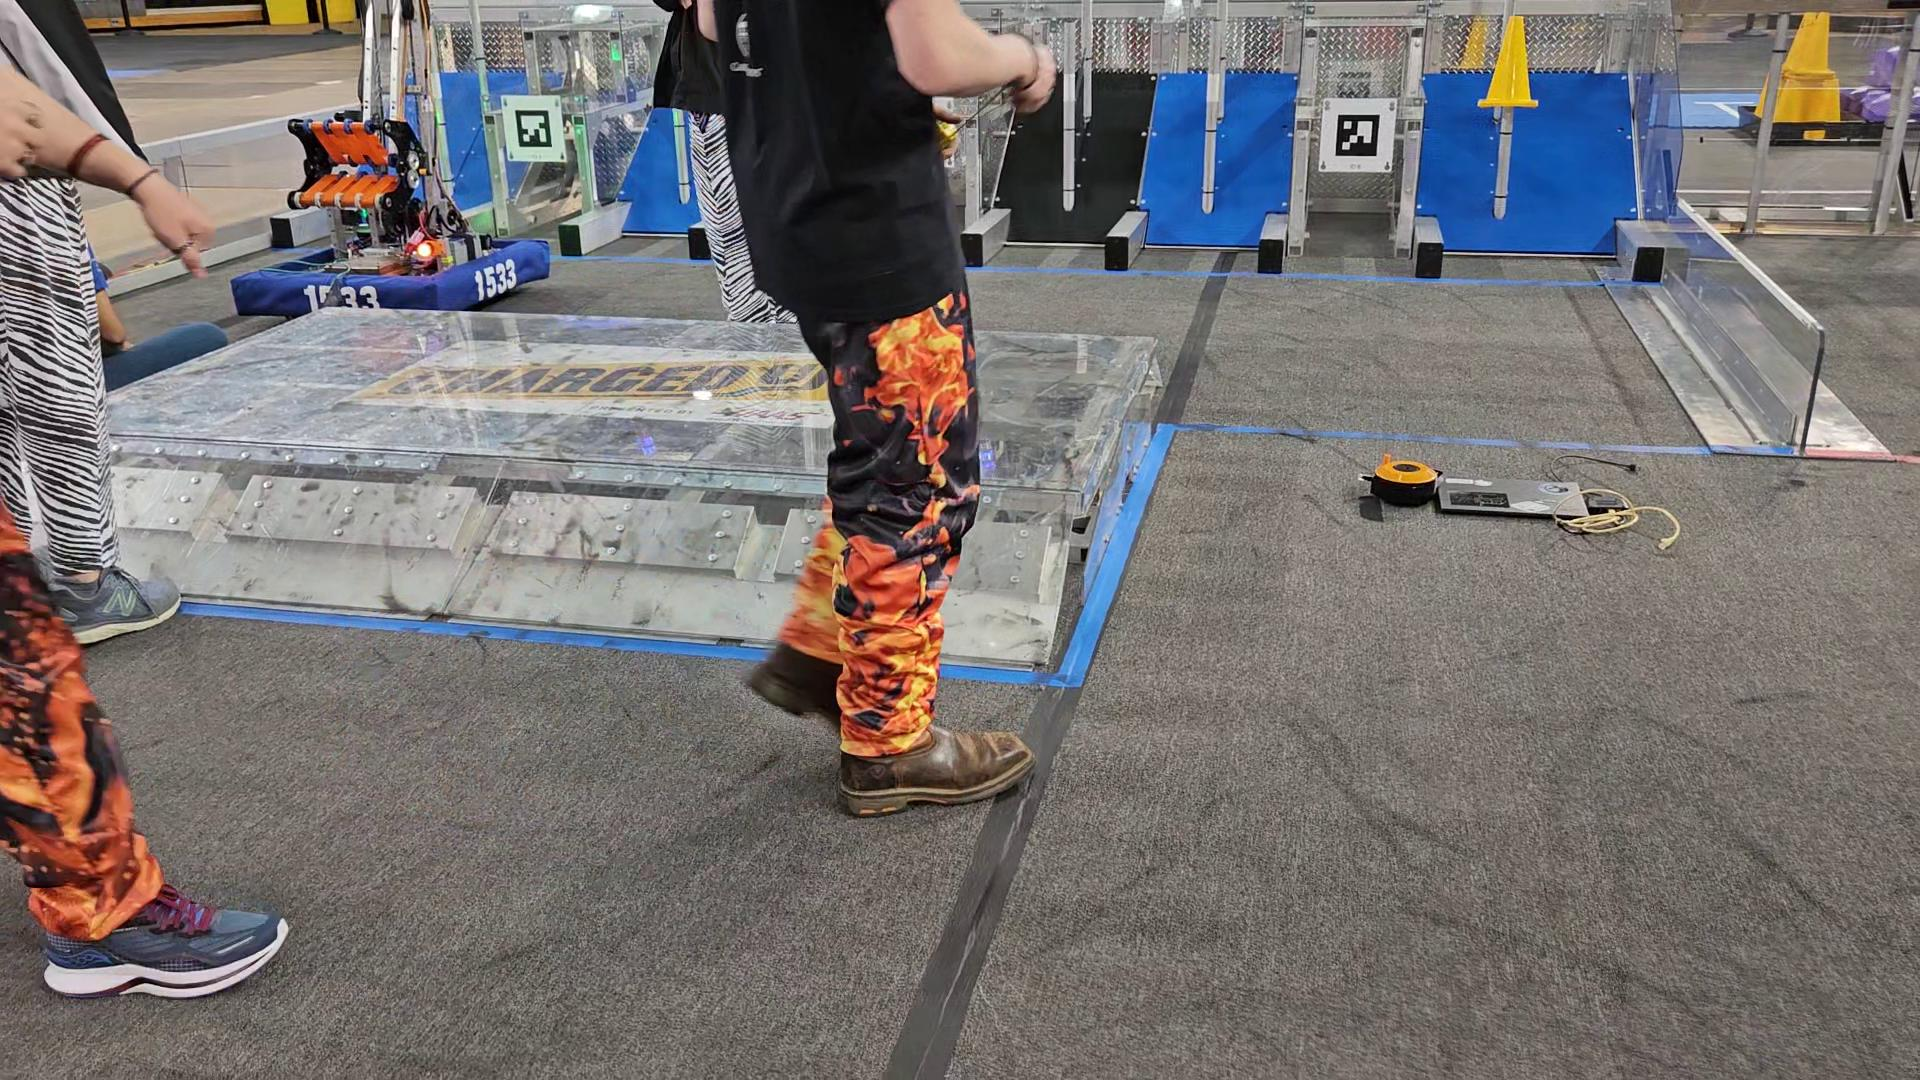robot: (233, 112, 553, 313)
